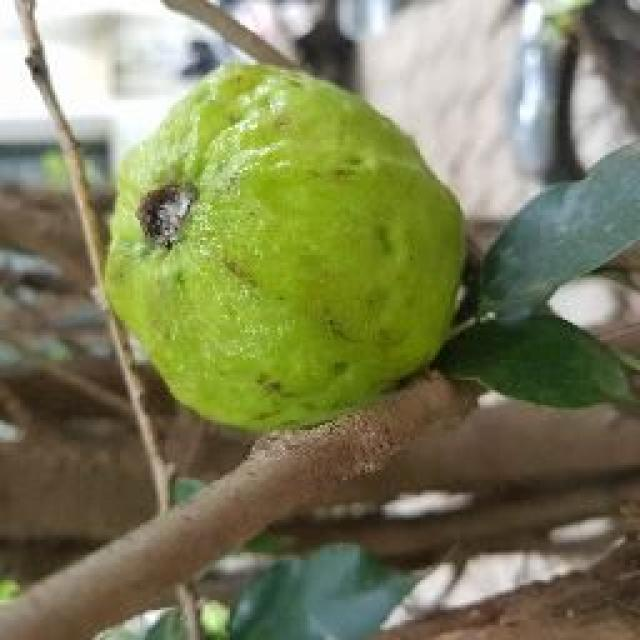Good_Guava: (102, 62, 510, 432)
